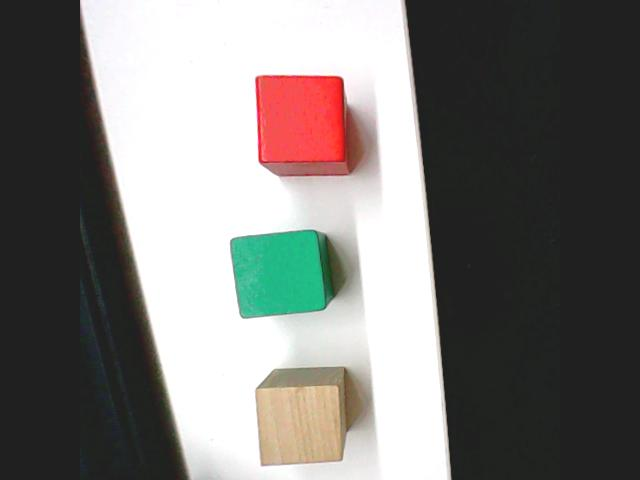green_box: (226, 226, 336, 321)
raw_box: (251, 363, 350, 469)
red_box: (250, 70, 354, 179)
